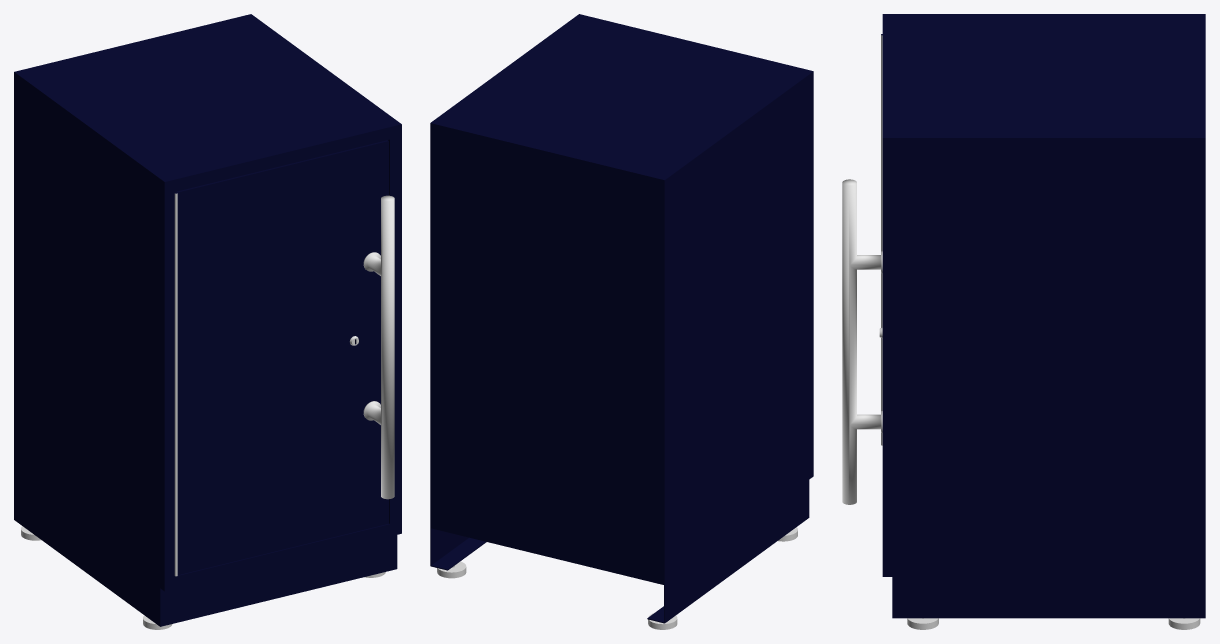
The model's file is rightDoor1BaseLux.glb.
The picture shows the model from 3 angles, left to right: view 1: azimuth 30°, elevation 25°; view 2: azimuth 150°, elevation 25°; view 3: azimuth 270°, elevation 25°; orthographic projection. The views are drawn at different scales.
Parts seen in each view (by area): view 1: baseShell, doors, handles, hinge; view 2: baseShell, baseFeet; view 3: baseShell, handles, hinge, baseFeet.
Part boxes in pixels (x1=…): baseShell: x1=14, y1=14, x2=401, y2=626; doors: x1=175, y1=140, x2=388, y2=574; handles: x1=363, y1=195, x2=394, y2=499; hinge: x1=174, y1=193, x2=177, y2=576; baseShell: x1=430, y1=14, x2=813, y2=623; baseFeet: x1=437, y1=527, x2=797, y2=629; baseShell: x1=882, y1=14, x2=1205, y2=618; handles: x1=842, y1=179, x2=882, y2=504; hinge: x1=881, y1=35, x2=882, y2=445; baseFeet: x1=907, y1=618, x2=1200, y2=629.
Bounding box in the file's own units: 0.5123 × 0.9382 × 0.6287.
